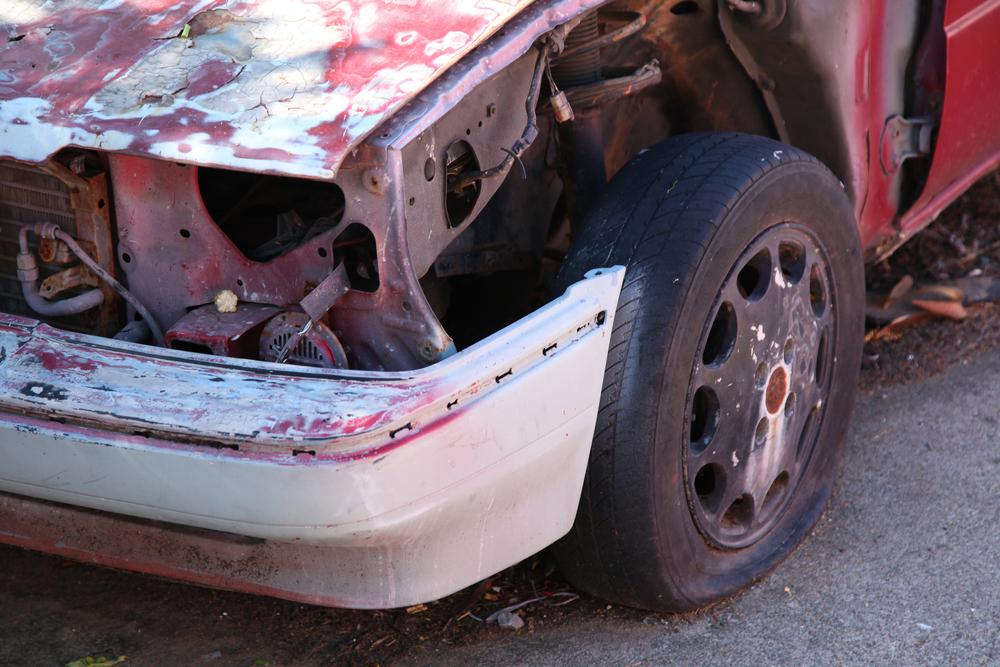tire flat: (555, 132, 866, 610)
